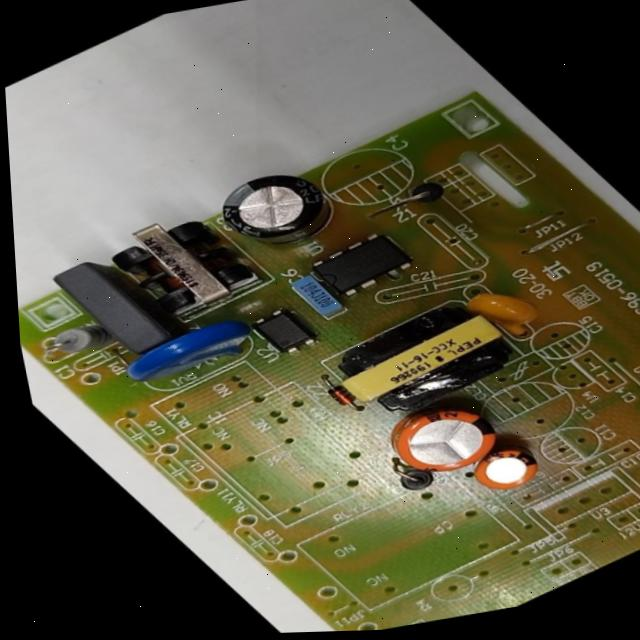Cap1: (368, 385, 522, 491)
Cap2: (460, 439, 552, 503)
Cap3: (197, 154, 353, 266)
MOSFET: (304, 226, 421, 303)
Mov: (108, 308, 268, 398)
Resistor: (36, 315, 118, 365)
Transformer: (311, 286, 539, 431), (93, 197, 272, 332)
